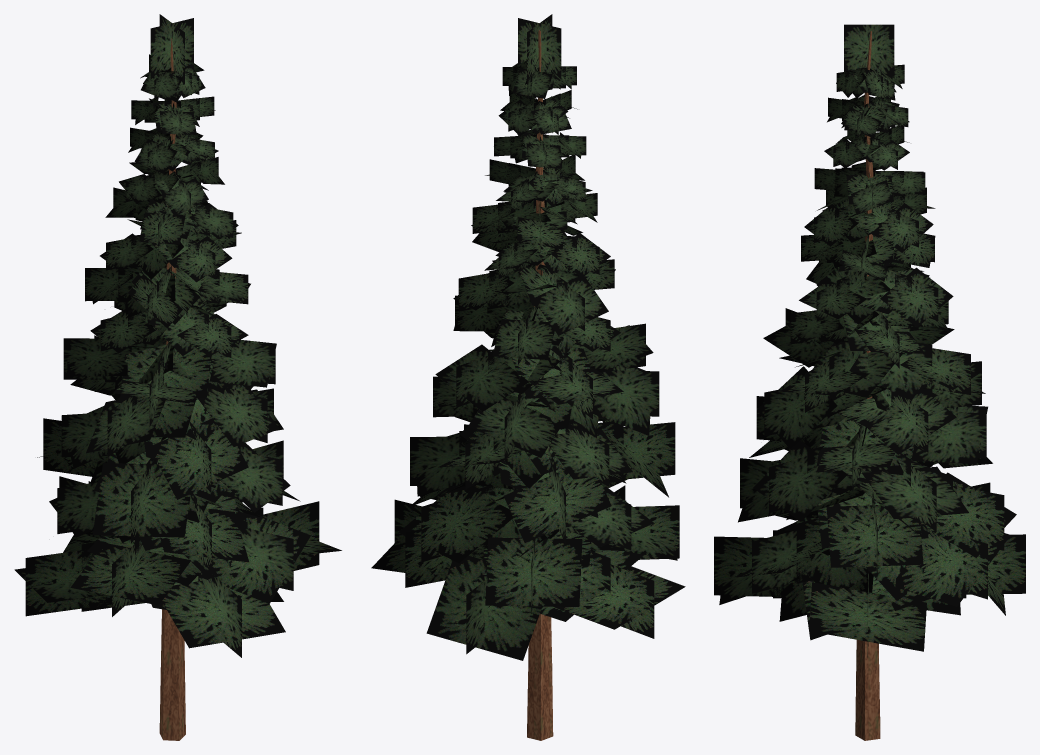
File: Pine_5_LOD1.gltf
3 views of the same model, side by side, from view 1: azimuth 30°, elevation 25°; view 2: azimuth 150°, elevation 25°; view 3: azimuth 270°, elevation 25° (orthographic).
Visible parts, largest first — view 1: Pine_5_LOD1; view 2: Pine_5_LOD1; view 3: Pine_5_LOD1.
Part boxes in pixels (box(x1,y1,x2,y2)): Pine_5_LOD1: box(14, 14, 341, 740); Pine_5_LOD1: box(371, 14, 685, 740); Pine_5_LOD1: box(714, 24, 1025, 740).
Size of the model in its own units: 8.97 by 21.67 by 8.62.
Materials: 2 (2 with a texture image).
